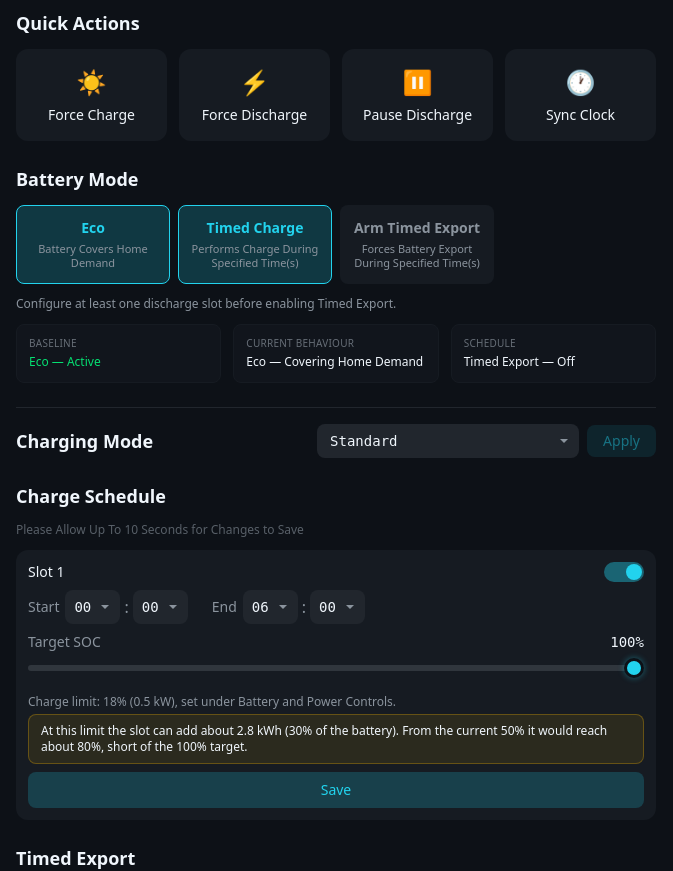
Test: Control page: charge limit on the charge slot card › follows an unsaved change to the slot target
The width and height of the screenshot is (673, 871).
Expected: the message with test id "charge-slot-limit-shortfall" is shown, [28, 714, 644, 764]
The first slider in the section is slot 1's Target SOC.
Set the slider to "70" at (448, 668), box [28, 656, 644, 680]
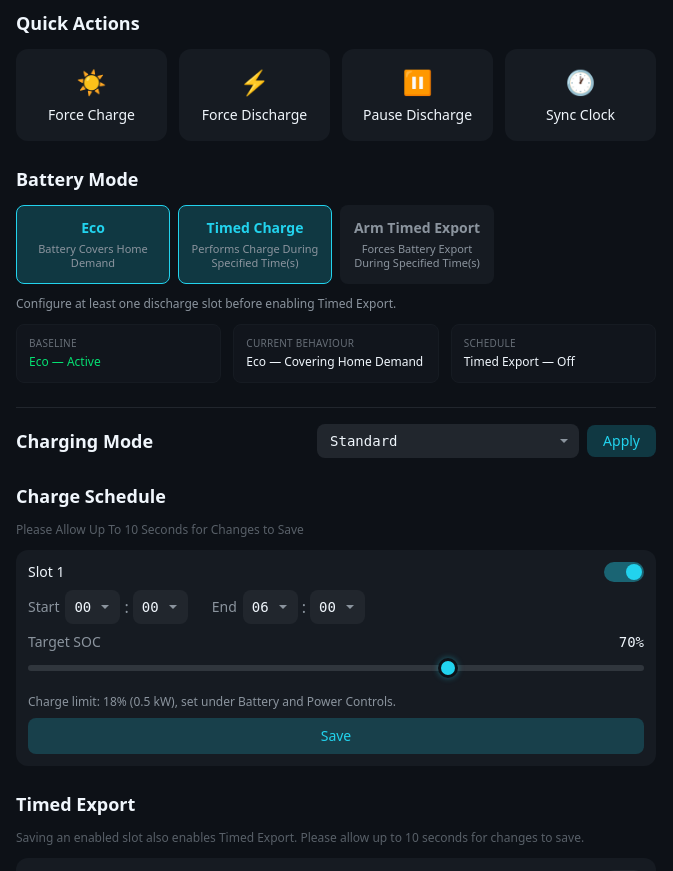
Expected: the message with test id "charge-slot-limit-shortfall" is gone
